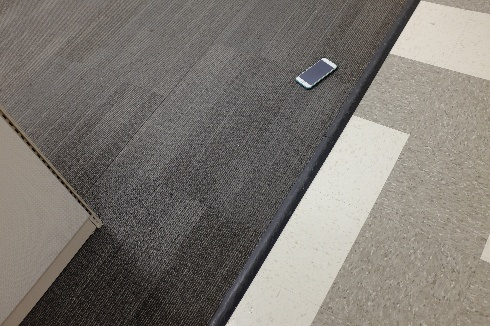phone: (294, 57, 343, 89)
